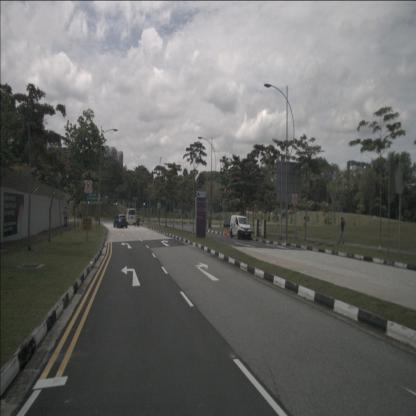cone: (224, 228, 228, 237), (223, 228, 226, 237)
